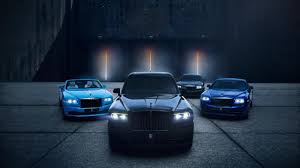car: (103, 68, 198, 155), (54, 73, 118, 127), (203, 74, 269, 124), (175, 62, 210, 97)
